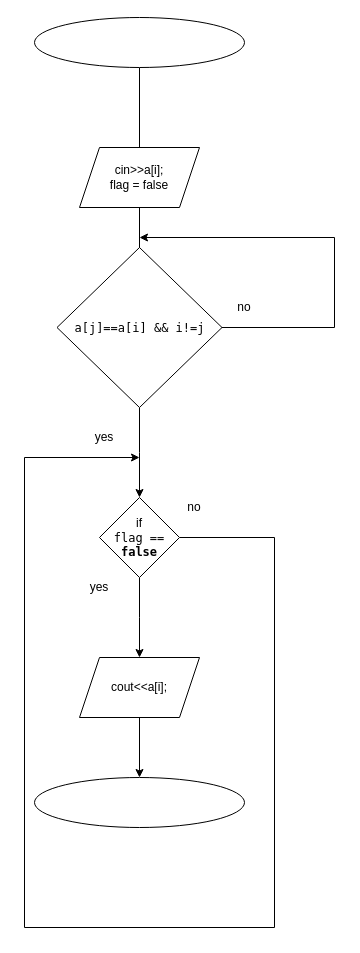
Some shapes in this 360 by 953 pixel diagram are drawn without their labels. The shapes that lost their labels are listed below. From the top down, each one's box as (x1, y1, x2, y2) in pixels, then its label:
(34, 16, 244, 68): START
(34, 776, 244, 828): FINISH
